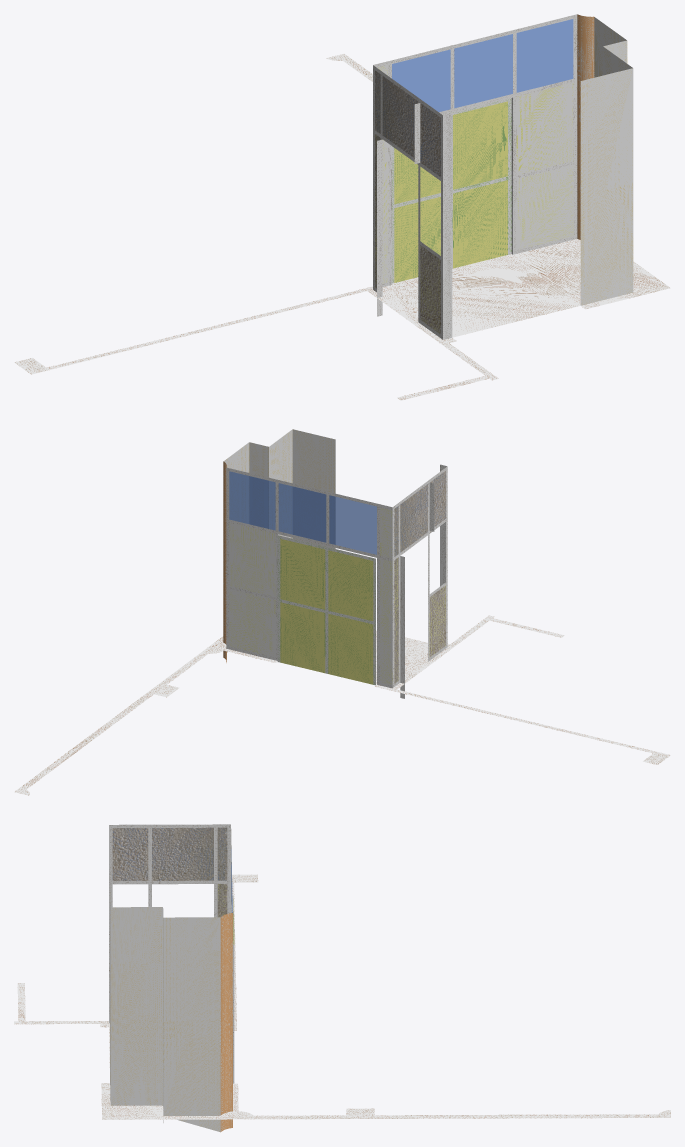
Rendered from COM035.obj.
3 renders of one model, top to bottom at view 1: azimuth 30°, elevation 25°; view 2: azimuth 150°, elevation 25°; view 3: azimuth 270°, elevation 25°, orthographic. The views are drawn at different scales.
Parts seen in each view (by area): view 1: Mesh1 COM035 Model; view 2: Mesh1 COM035 Model; view 3: Mesh1 COM035 Model.
Part boxes in pixels (x1=…): Mesh1 COM035 Model: x1=14, y1=14, x2=670, y2=400; Mesh1 COM035 Model: x1=14, y1=429, x2=670, y2=795; Mesh1 COM035 Model: x1=14, y1=824, x2=670, y2=1132.
Bounding box in the file's own units: 7.95 × 3.25 × 9.
9 materials, 2 textured.
